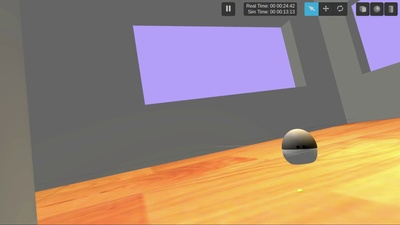mira_robot: (282, 129, 318, 165)
